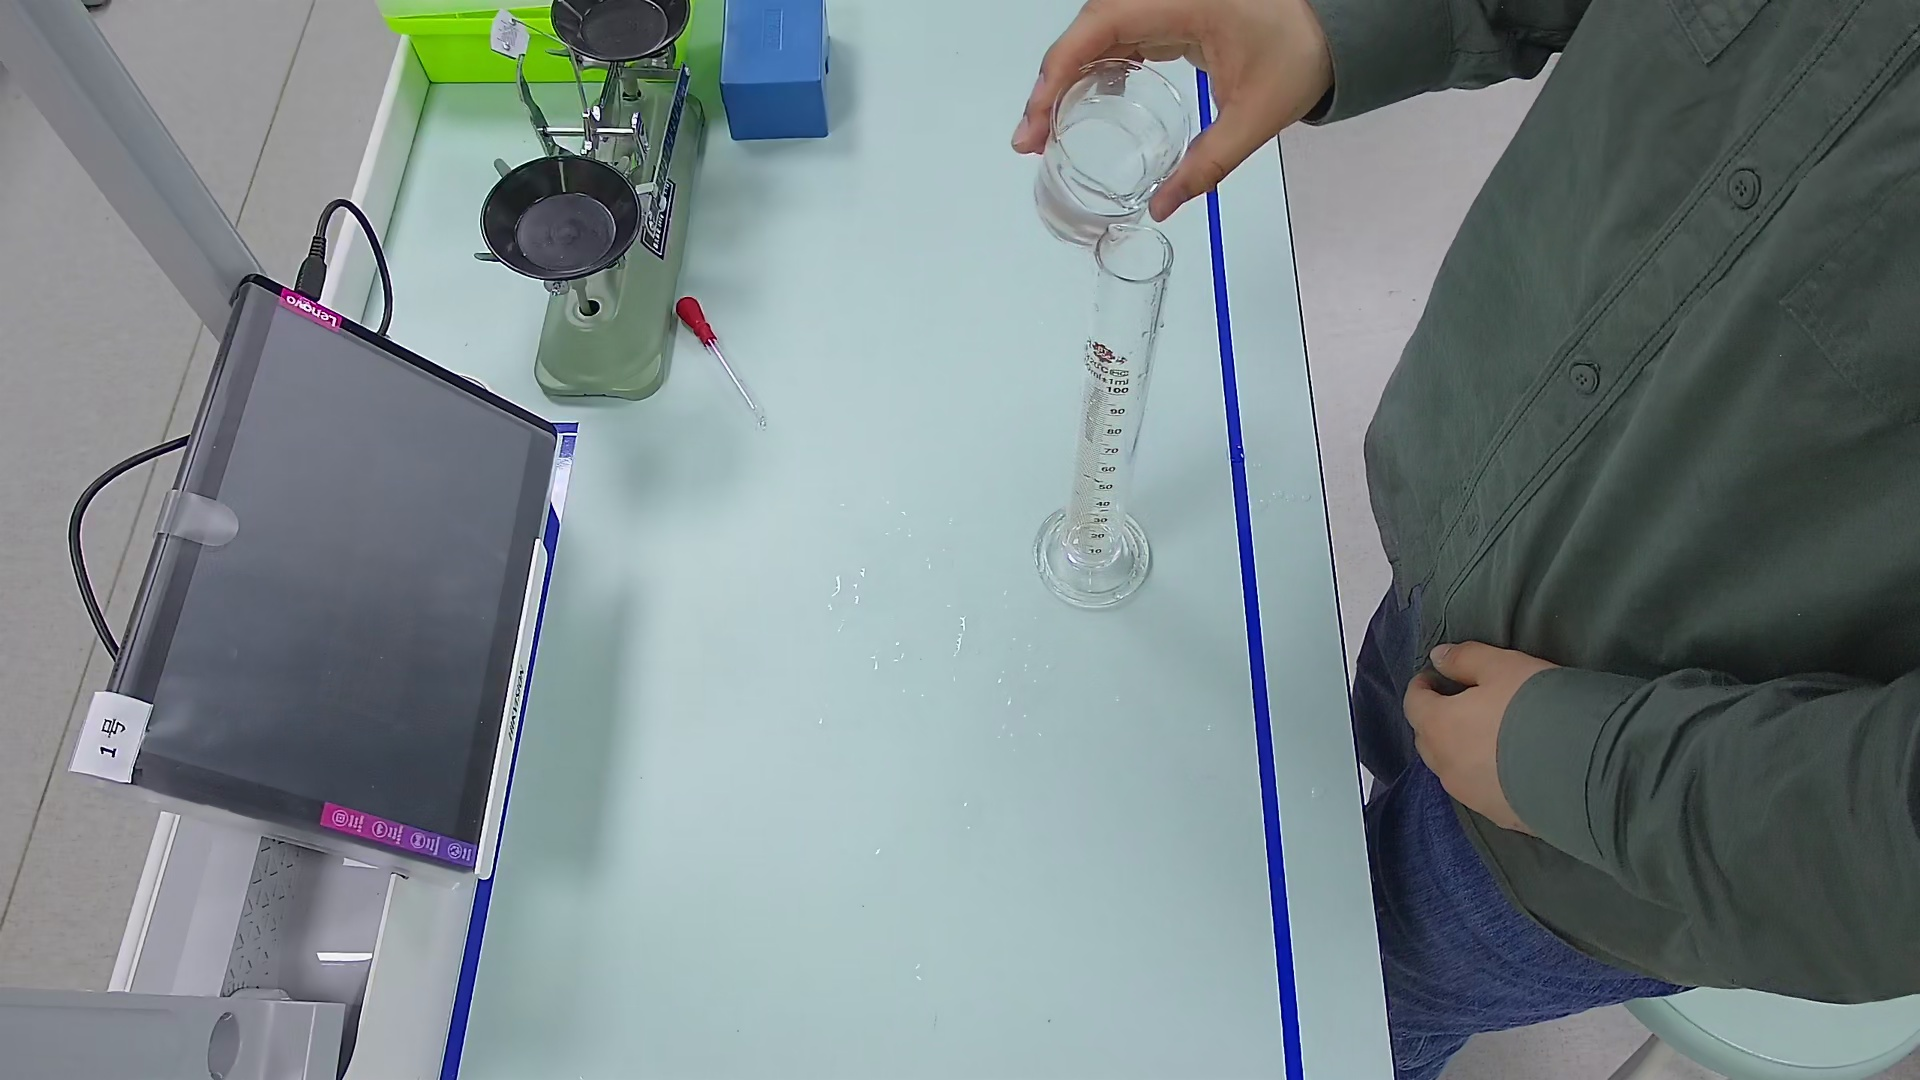bei: (1035, 58, 1197, 255)
diguan: (669, 289, 781, 436)
diguantou: (676, 290, 715, 356)
hand: (1006, 7, 1317, 203)
liangdi: (1033, 502, 1163, 611)
liangtong: (1039, 208, 1164, 615)
tuo: (475, 156, 640, 287), (542, 1, 703, 58)
